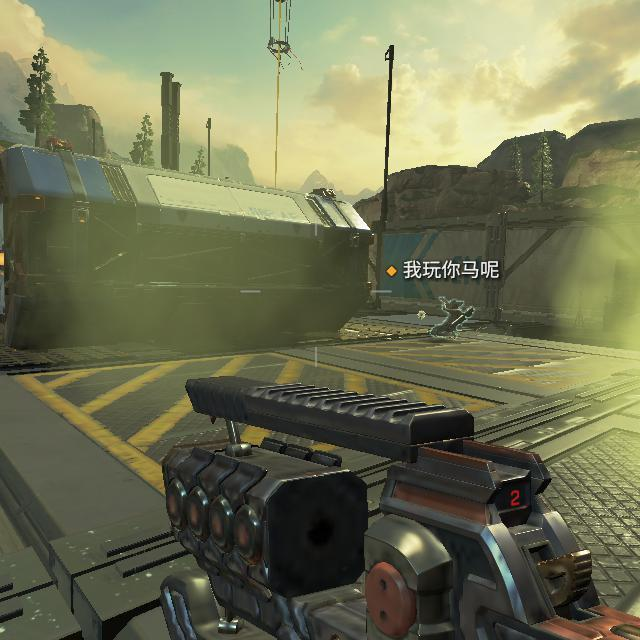avatar: (428, 296, 467, 341)
